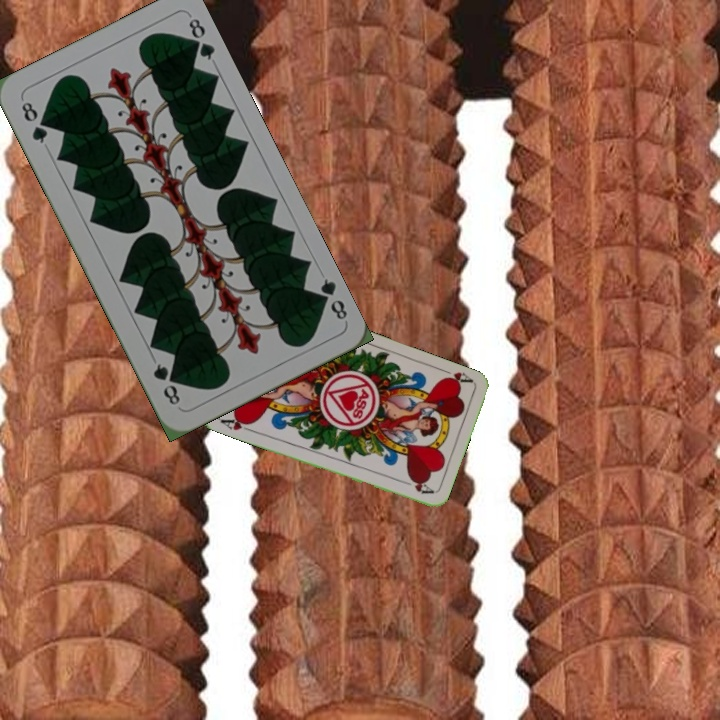G8: (311, 274, 350, 323), (17, 97, 50, 147)
HA: (436, 364, 475, 389), (216, 413, 255, 434)
